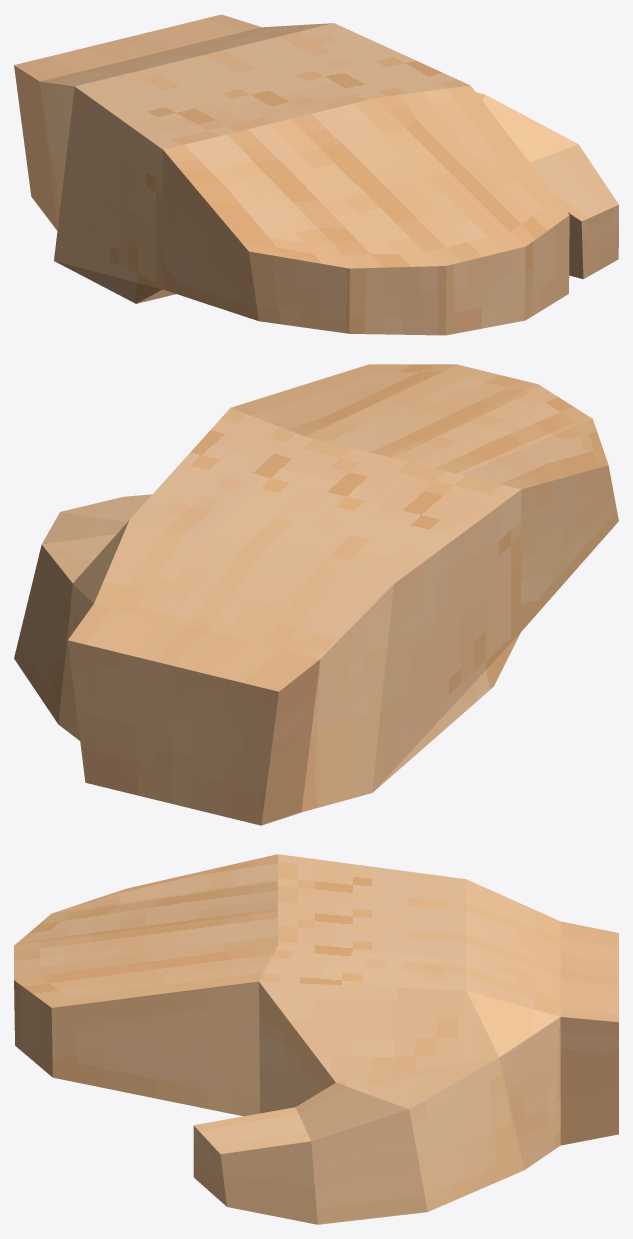
File: mano_derecha_abierta.fbx
3 views of the same model, one above another, from view 1: azimuth 30°, elevation 25°; view 2: azimuth 150°, elevation 25°; view 3: azimuth 270°, elevation 25° (orthographic). The views are drawn at different scales.
Parts seen in each view (by area): view 1: cuboid; view 2: cuboid; view 3: cuboid.
Part boxes in pixels (bbox=[...]): cuboid: bbox=[14, 14, 618, 335]; cuboid: bbox=[14, 364, 618, 825]; cuboid: bbox=[14, 854, 618, 1224].
Bounding box in the file's own units: 148 × 68.75 × 201.
Materials: 1 (1 with a texture image).
